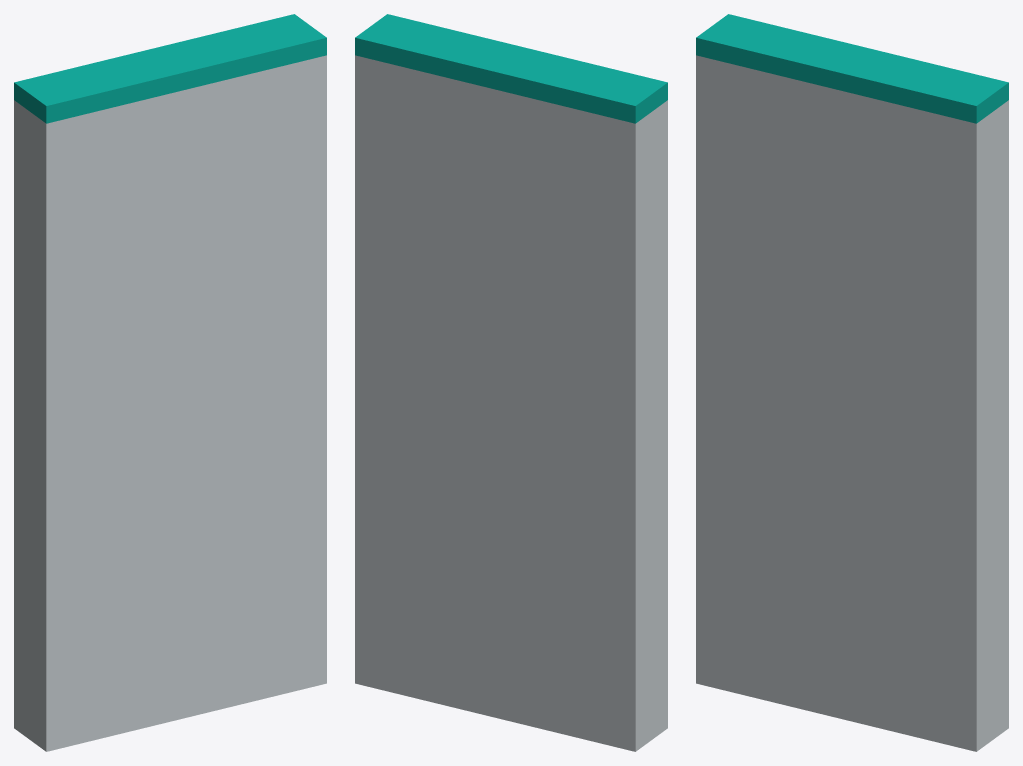
The model's file is raum_wand.glb.
The picture shows the model from 3 angles, left to right: view 1: azimuth 30°, elevation 25°; view 2: azimuth 150°, elevation 25°; view 3: azimuth 330°, elevation 25°; orthographic projection.
Parts seen in each view (by area): view 1: raum_wand; view 2: raum_wand; view 3: raum_wand.
Boxes of the visible parts, <box> form: raum_wand: <box>14,14,326,751</box>; raum_wand: <box>355,14,667,751</box>; raum_wand: <box>696,14,1008,751</box>.
Bounding box in the file's own units: 1 × 2.2 × 0.2.
